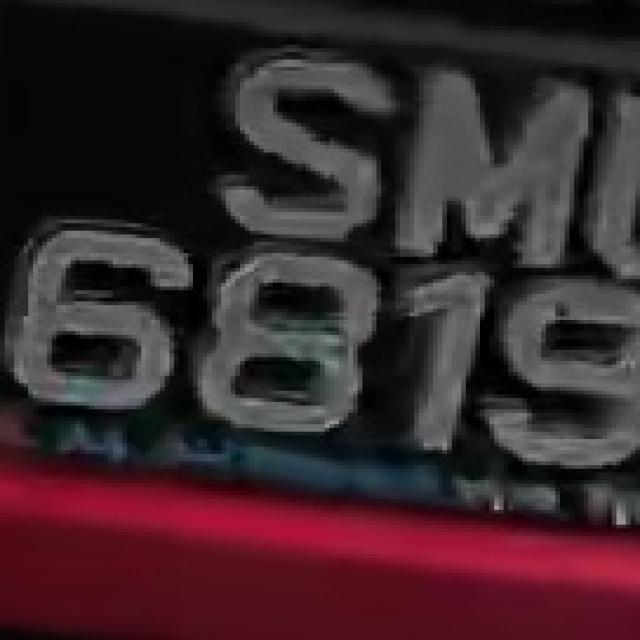1: (405, 256, 489, 472)
6: (5, 201, 184, 417)
8: (179, 234, 381, 446)
9: (494, 276, 635, 477)
M: (386, 56, 588, 268)
S: (221, 34, 381, 250)
